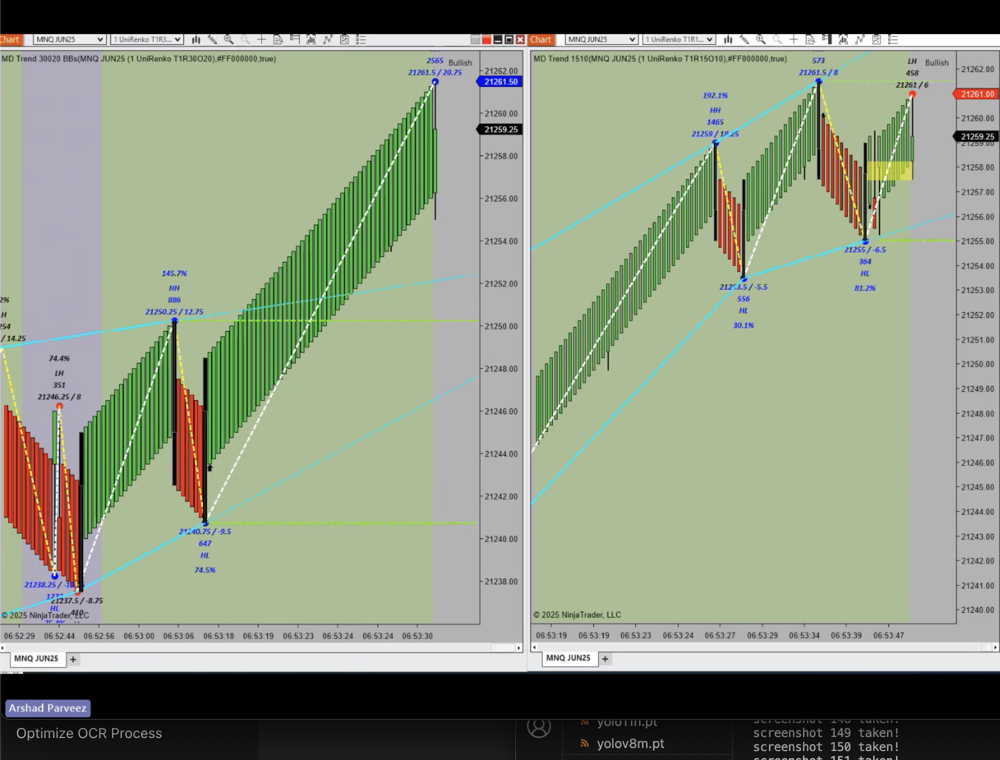HH: (162, 280, 191, 298), (702, 99, 727, 117)
HL: (735, 299, 755, 323), (854, 266, 879, 285), (195, 549, 217, 564)
LH: (49, 366, 73, 384), (901, 55, 924, 73)
